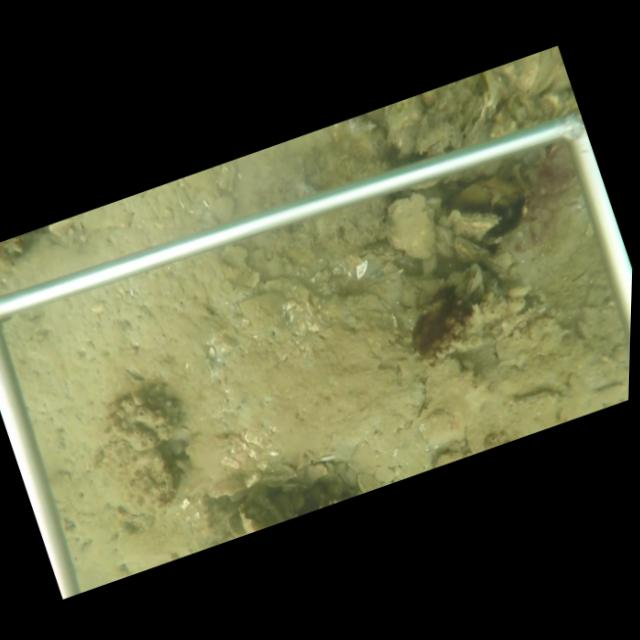Oyster-Closed: (459, 72, 506, 148), (465, 264, 485, 295), (478, 282, 485, 304)
Oyster-Indeterminate: (182, 430, 260, 499), (385, 191, 442, 263)
